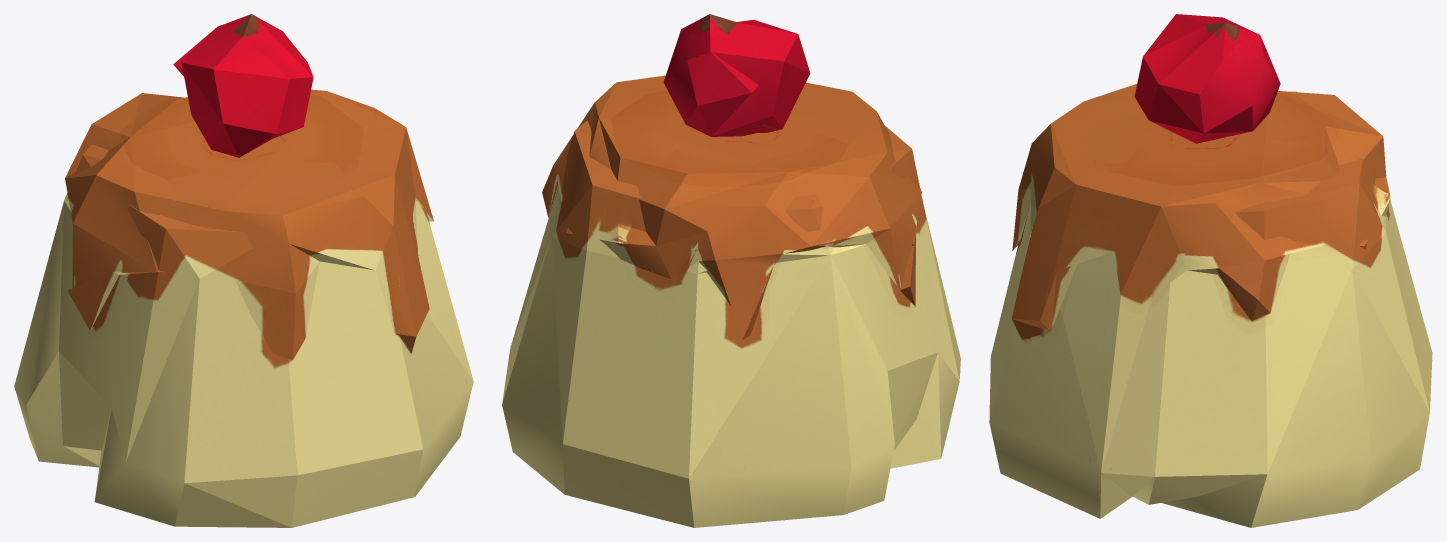
The model's file is mini.fbx.
3 renders of one model, left to right at view 1: azimuth 30°, elevation 25°; view 2: azimuth 150°, elevation 25°; view 3: azimuth 270°, elevation 25°, orthographic. The views are drawn at different scales.
Parts seen in each view (by area): view 1: output_unwrapped; view 2: output_unwrapped; view 3: output_unwrapped.
Boxes of the visible parts, x1,y1,x2,y2 form: output_unwrapped: (14,14,473,527); output_unwrapped: (502,14,960,527); output_unwrapped: (989,14,1432,527).
Size of the model in its own units: 17.27 by 18 by 16.99.
Materials: 1 (1 with a texture image).
